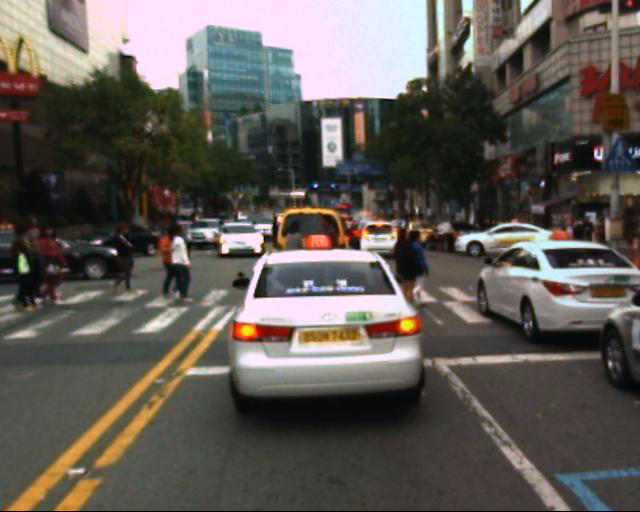person: (151, 214, 213, 311), (387, 219, 430, 319), (104, 217, 145, 302), (572, 209, 640, 258), (395, 223, 432, 312), (314, 204, 347, 301), (149, 219, 187, 302), (279, 214, 315, 300)
